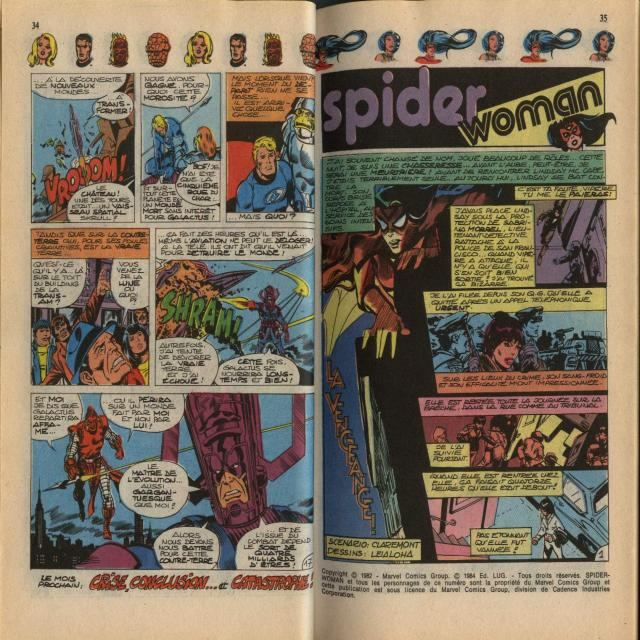comic_panel: (319, 149, 611, 567), (28, 390, 316, 573), (154, 224, 316, 388), (29, 224, 152, 389), (423, 284, 611, 391), (420, 469, 610, 562), (29, 71, 136, 225), (418, 394, 612, 469), (224, 71, 317, 226), (140, 70, 224, 224), (523, 199, 609, 288)
